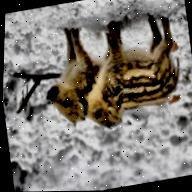boar: (76, 16, 192, 132), (31, 18, 144, 136)
